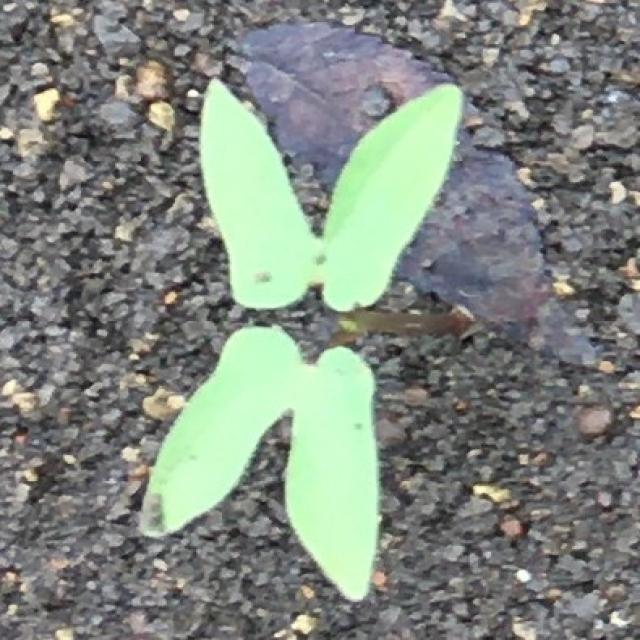MorningGlory: (139, 78, 465, 605)
